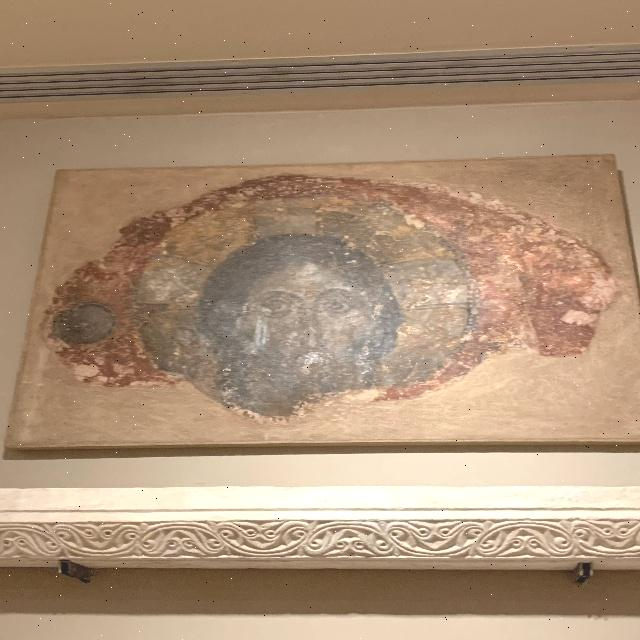aura: (140, 199, 486, 402)
christ_pantocrator: (59, 170, 622, 449)
